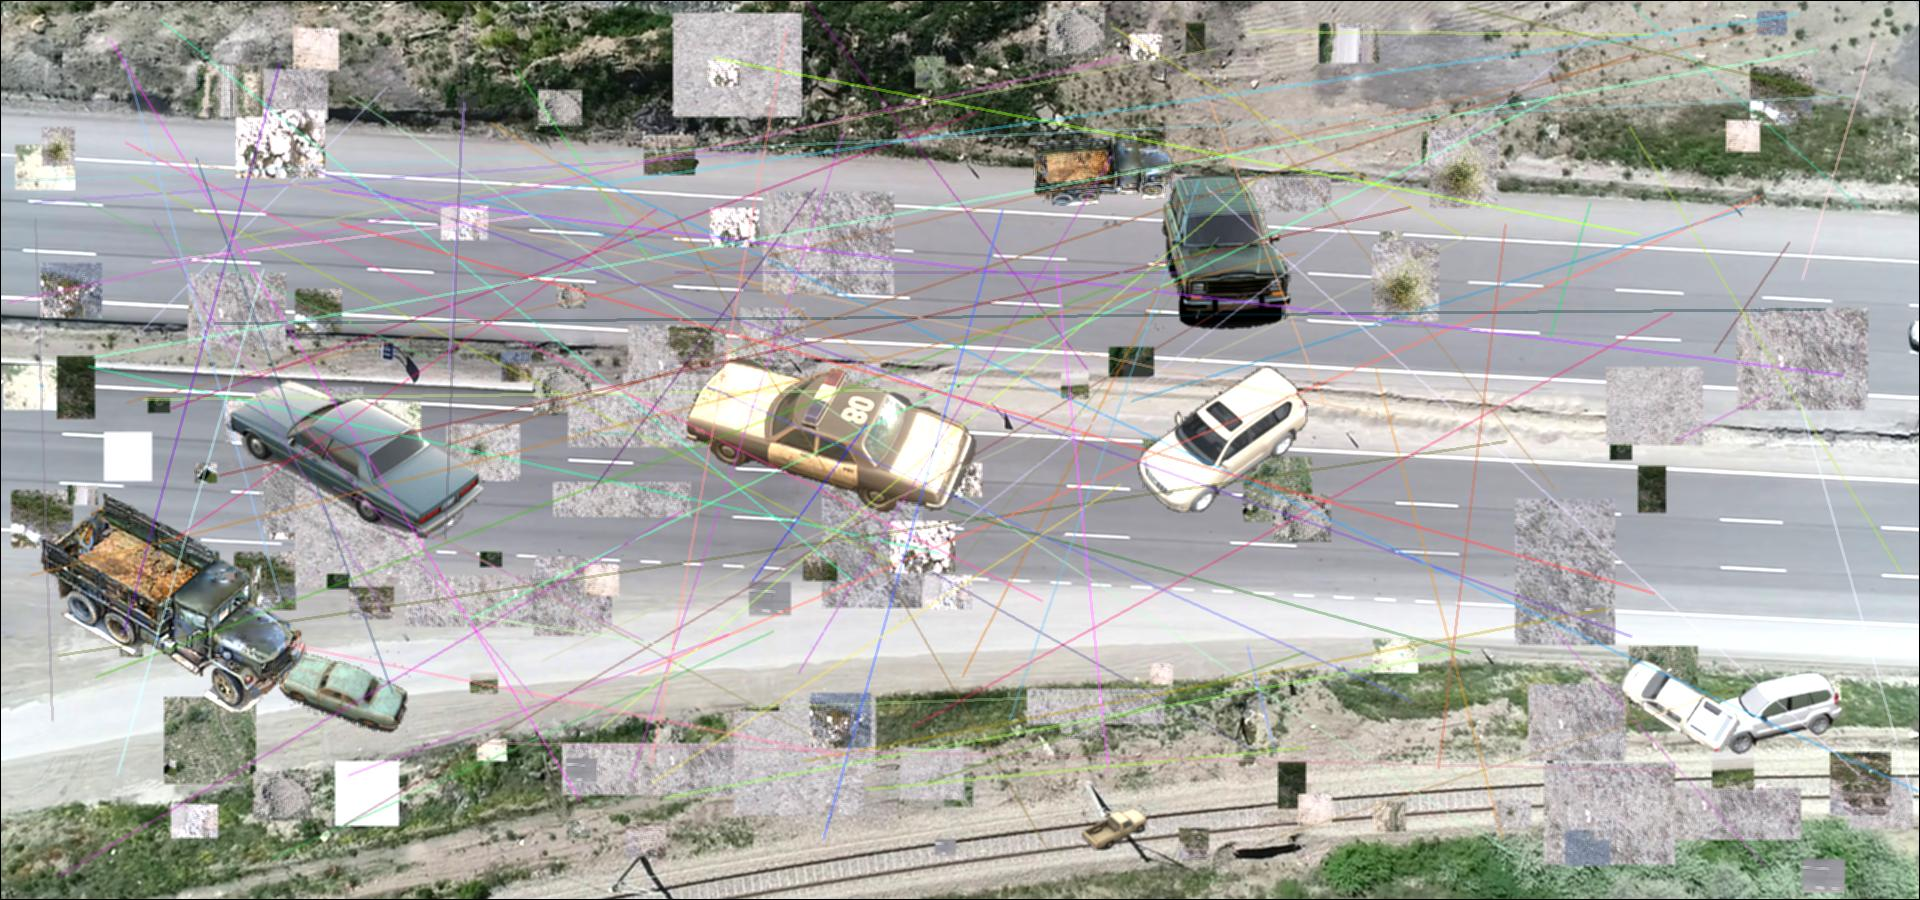arac: (37, 489, 307, 711), (687, 348, 977, 514), (216, 378, 482, 539), (1134, 366, 1314, 512), (1155, 171, 1292, 331), (1618, 654, 1744, 752), (1704, 670, 1842, 756), (274, 648, 410, 733), (1031, 132, 1174, 204), (1082, 804, 1147, 850)
